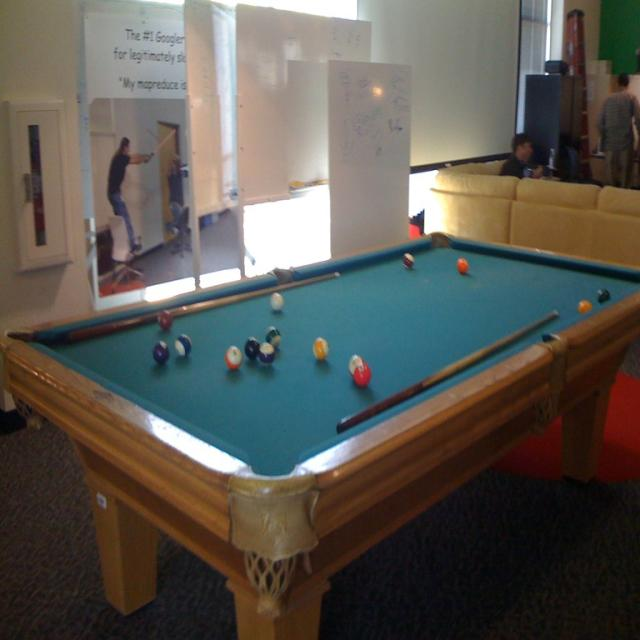Ball: (226, 344, 244, 372), (355, 362, 372, 391), (173, 334, 191, 360), (260, 342, 274, 368), (266, 326, 280, 349), (158, 310, 174, 329), (153, 343, 168, 363), (314, 336, 327, 358), (245, 339, 257, 362), (270, 294, 284, 312), (349, 358, 359, 379), (459, 259, 469, 276), (582, 299, 593, 314), (597, 292, 609, 305), (405, 255, 416, 265)
